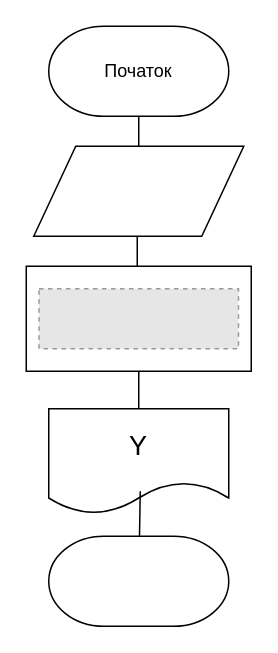
This 278x653 diagram has some shape labels left out. Grey dashed boxes stand in for pictures. The centre of each missing label's shape, as x and y in pixels:
a, b, c: [138,190]
Кінець: [138,580]
